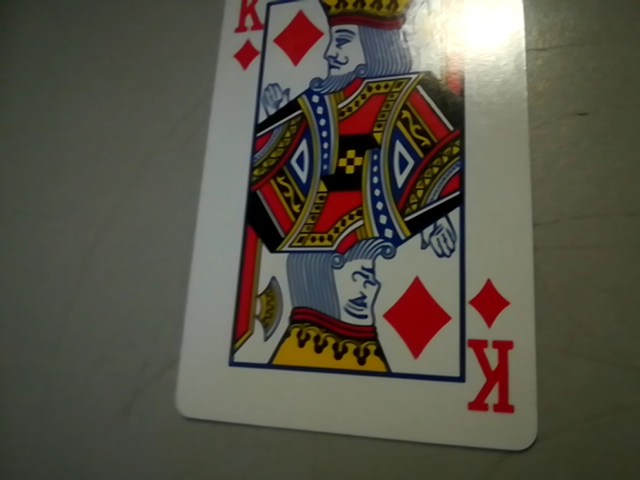fk k: (456, 272, 527, 427)
